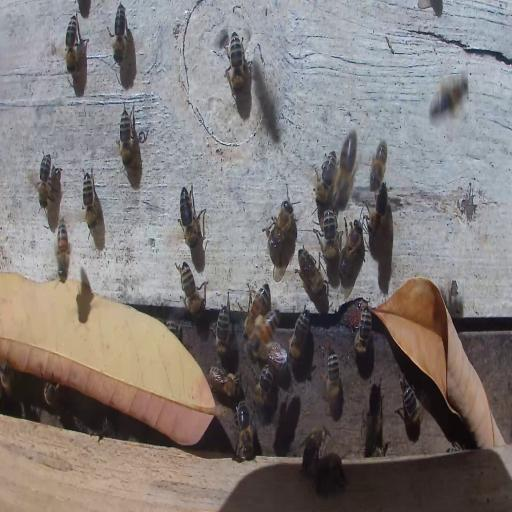bee: (263, 196, 297, 264), (429, 72, 469, 124), (334, 133, 357, 209), (177, 184, 203, 250), (177, 262, 206, 320), (51, 214, 74, 286), (314, 209, 342, 266), (314, 450, 348, 496), (300, 424, 329, 476), (337, 220, 363, 278), (248, 308, 281, 352), (351, 300, 374, 362), (297, 244, 324, 296), (398, 376, 422, 432), (313, 149, 337, 205), (322, 348, 344, 409), (288, 305, 310, 366), (81, 166, 100, 234), (244, 282, 270, 331), (208, 364, 241, 402), (118, 106, 137, 169), (228, 31, 245, 94), (214, 302, 231, 363), (237, 404, 255, 460), (111, 3, 127, 65), (369, 182, 388, 234), (250, 365, 274, 404), (370, 140, 388, 190), (65, 14, 79, 74), (38, 150, 52, 210), (1, 364, 13, 401), (44, 380, 59, 408), (368, 441, 390, 457), (101, 415, 115, 439), (27, 405, 42, 420)
